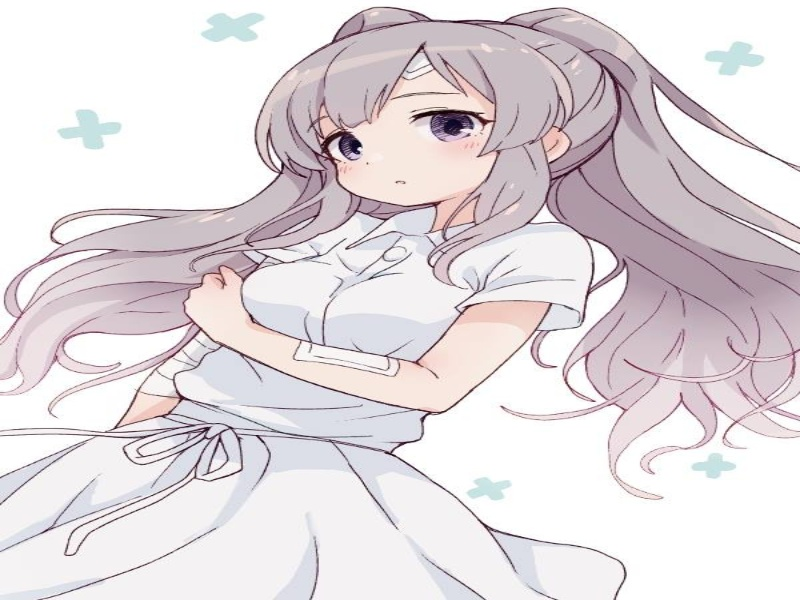dress: (2, 201, 633, 600)
person: (243, 18, 657, 228)
